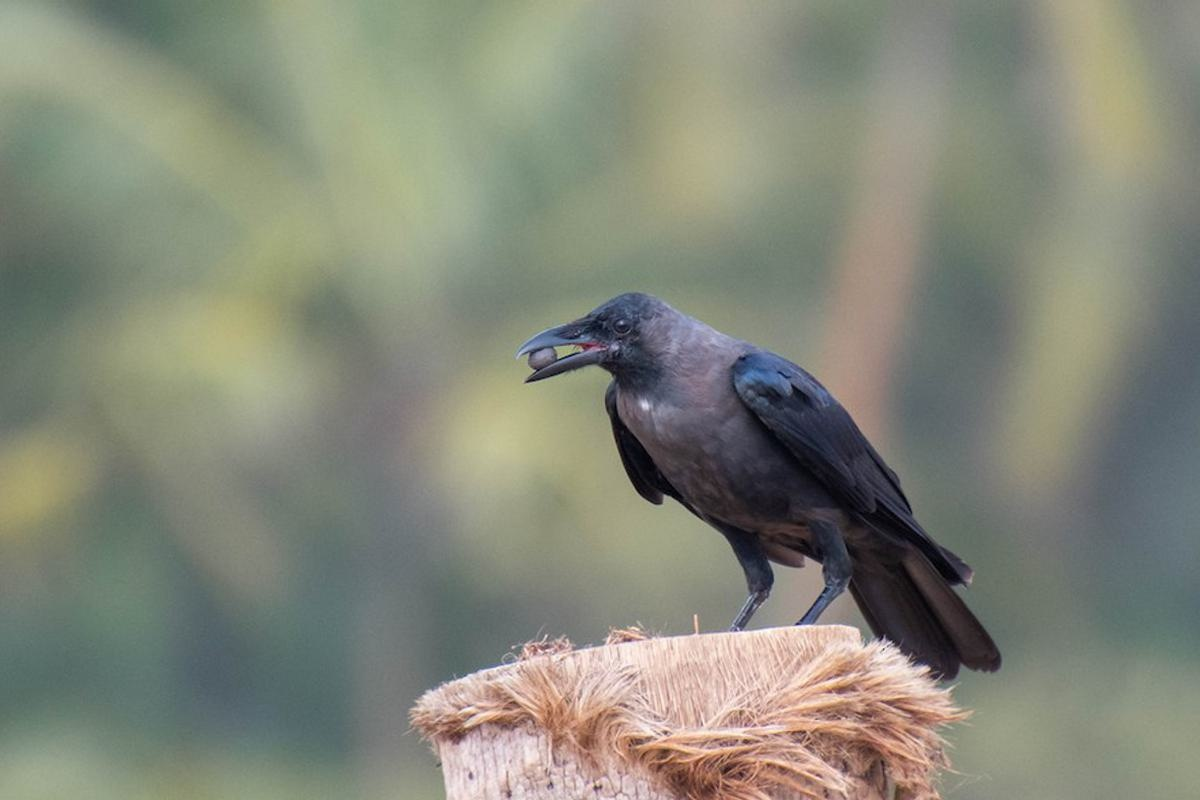crow: (503, 279, 1063, 702)
